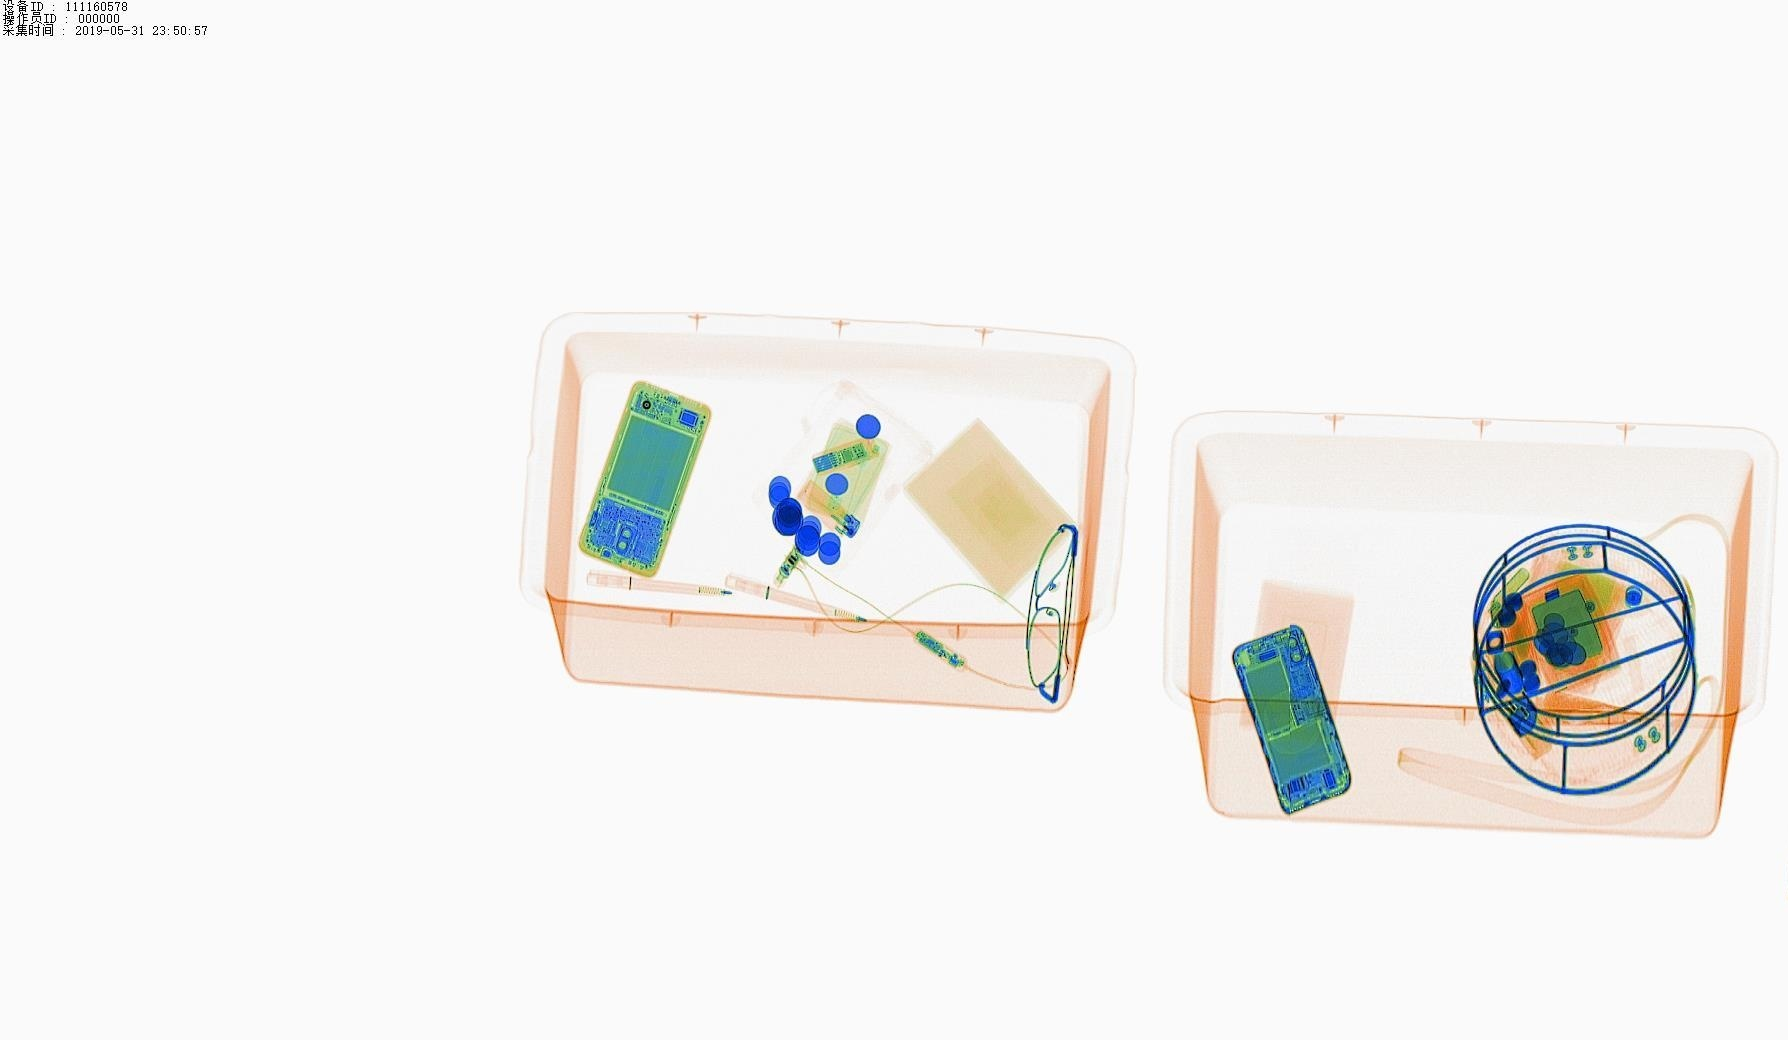NonmetallicFire: (781, 470, 871, 544)
